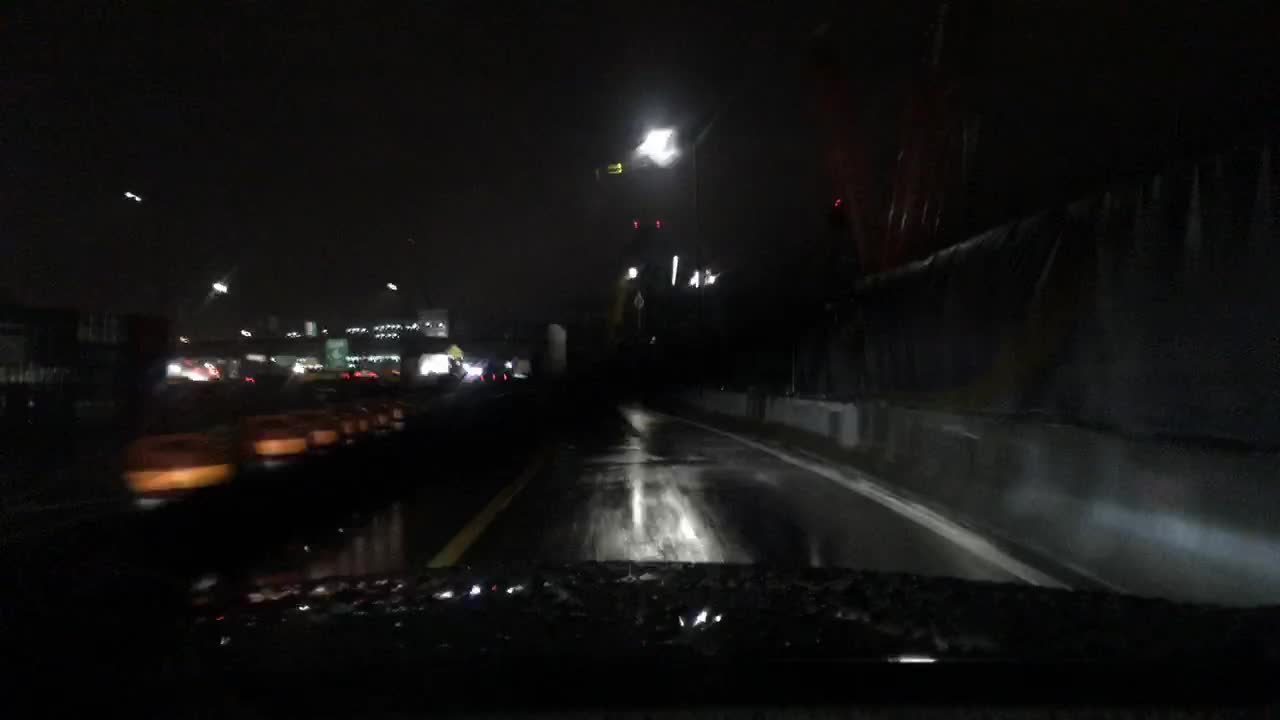traffic light: (829, 196, 846, 214), (631, 217, 642, 235), (654, 215, 664, 233)
traffic sign: (320, 336, 351, 373), (507, 354, 533, 376), (444, 342, 467, 363), (631, 287, 647, 310)
